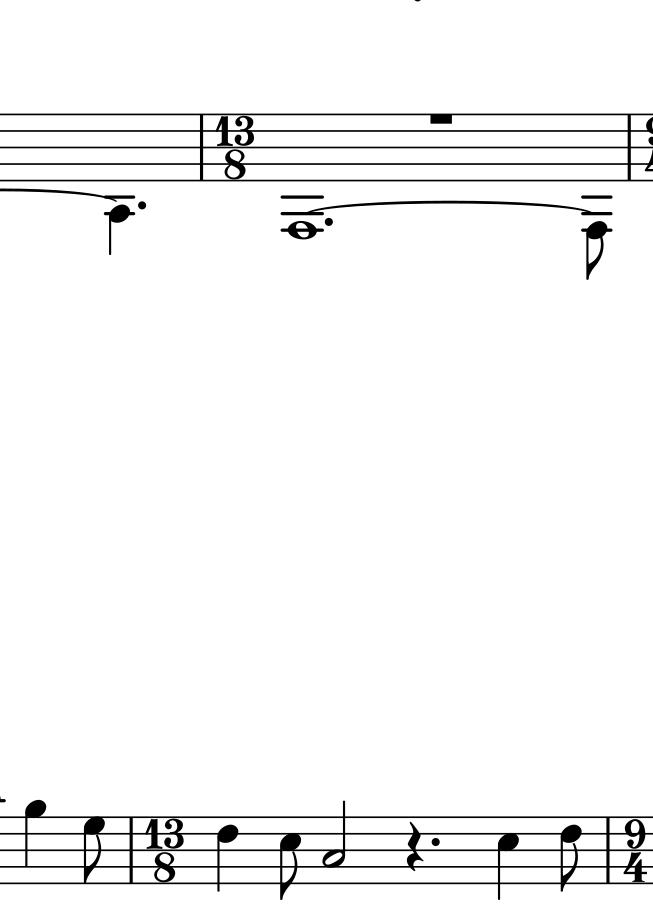1: (216, 110, 234, 149), (143, 817, 162, 851)
1_-6: (282, 112, 321, 239)
2_3: (322, 798, 348, 886)
3: (233, 113, 256, 148)
4: (622, 851, 647, 884)
4_5: (495, 815, 520, 903)
4_6: (214, 815, 239, 894)
4_9: (23, 798, 45, 886)
8: (151, 850, 177, 884), (222, 147, 247, 182), (163, 817, 185, 850)
8_-4: (104, 111, 134, 256)
8_-6: (580, 112, 612, 277)
8_5: (276, 815, 302, 901)
8_6: (558, 815, 586, 894)
8_7: (81, 815, 107, 886)
9: (622, 816, 648, 851)
Rests1: (425, 108, 457, 128)
Rests4: (403, 820, 423, 873)
Single_barline: (123, 816, 140, 886), (599, 816, 616, 884), (193, 114, 210, 181), (622, 114, 637, 182)
Slur: (308, 200, 591, 213)
TimeSig: (215, 114, 255, 182), (146, 816, 185, 885), (619, 818, 649, 884)
dot: (135, 198, 148, 214), (429, 835, 442, 849), (323, 215, 335, 229)
